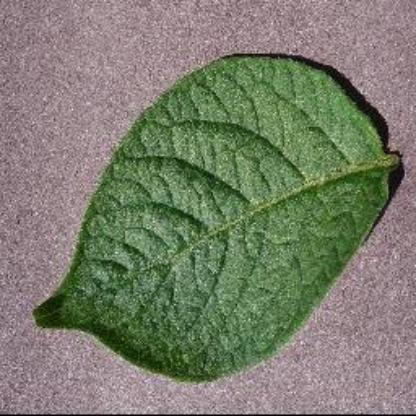Healthy-plant: (31, 40, 407, 388)
